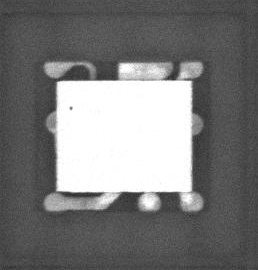DIE_INK: (65, 110, 70, 116)
